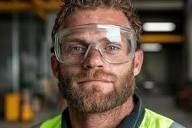safety_goggles: (45, 24, 153, 65)
